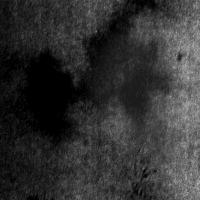patches: (84, 13, 200, 157), (80, 10, 167, 118), (17, 47, 74, 139)
